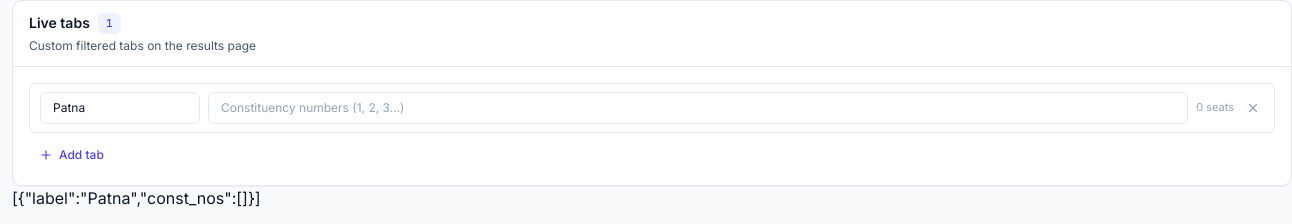
MiscEditors › a live-tab seat list can be typed with commas
Step 1. Type "1," into the field named "Tab 1 seats" → x=698, y=108, box left=208, top=92, right=1188, bottom=124
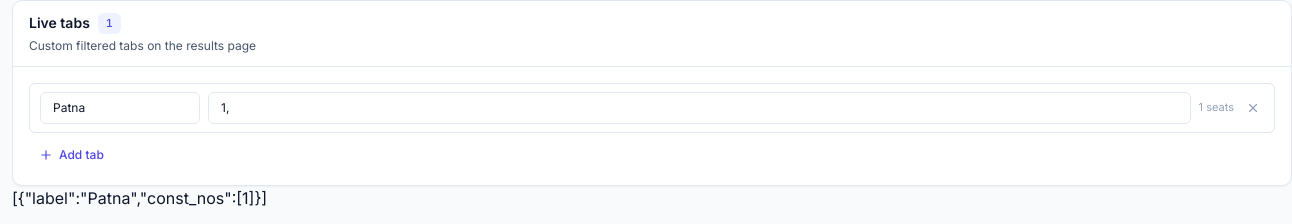
Step 2. Replace the text in the field named "Tab 1 seats" with "1, 2" → x=699, y=108, box left=208, top=92, right=1191, bottom=124
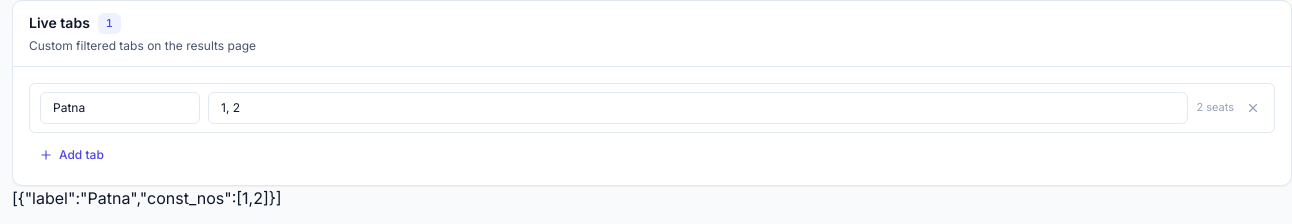
Expected: the text "[{\"label\":\"Patna\",\"const_nos\":[1,2]}]" is shown, left=12, top=188, right=282, bottom=208
Expected: the text "2 seats" is shown, left=1196, top=99, right=1234, bottom=116
